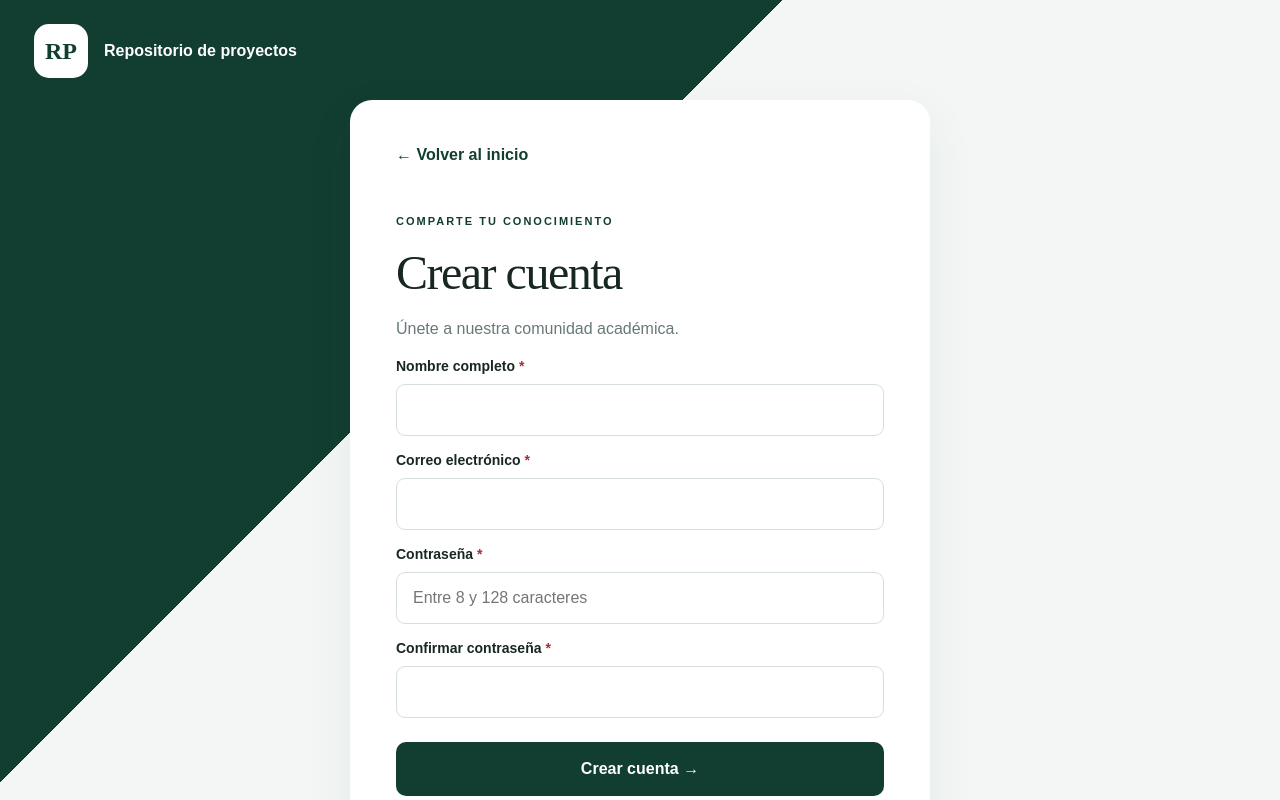
Scenario: Migración de pantallas y permisos › valida que las contraseñas de registro coincidan
This screenshot has width=1280, height=800.
Type "Davis" into the field labelled "Nombre completo *". click: (640, 410)
box: [396,384,884,436]
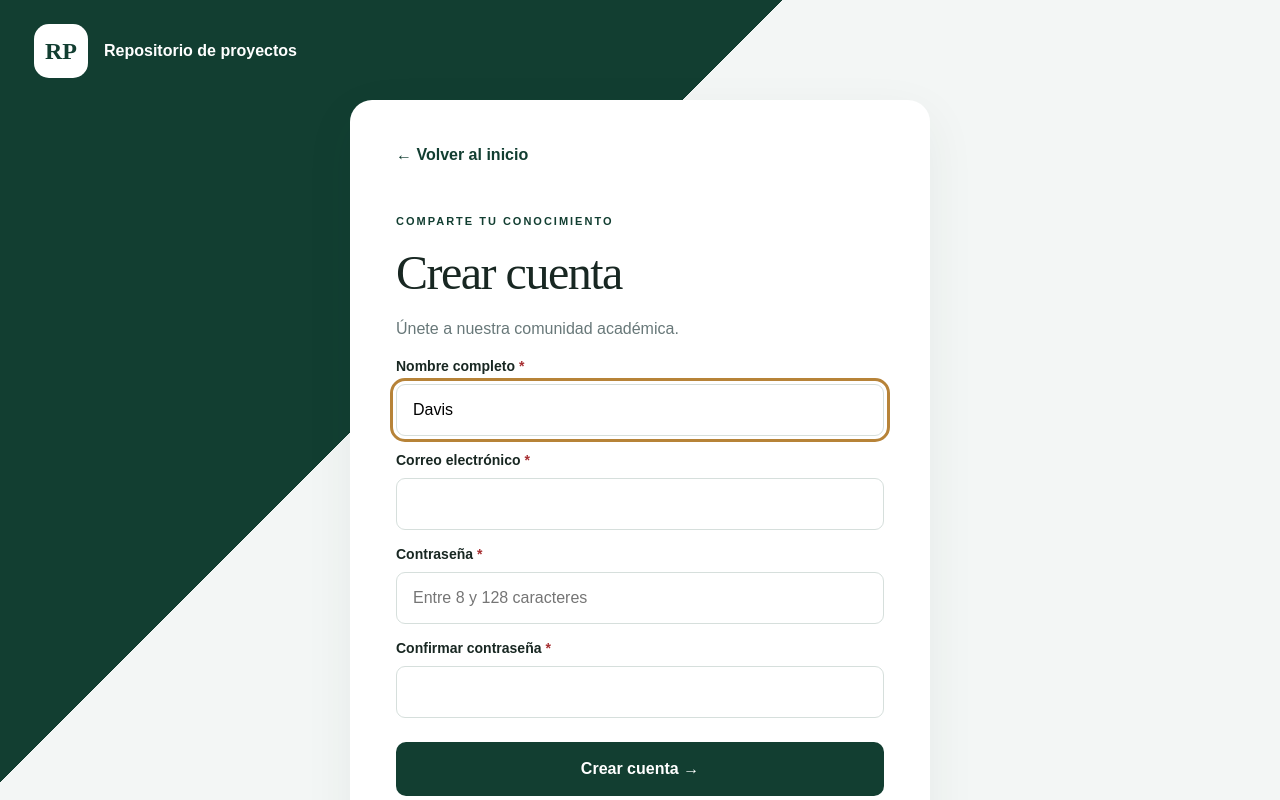
Type "davis@example.com" into the field labelled "Correo electrónico *". click: (640, 504)
box: [396,478,884,530]
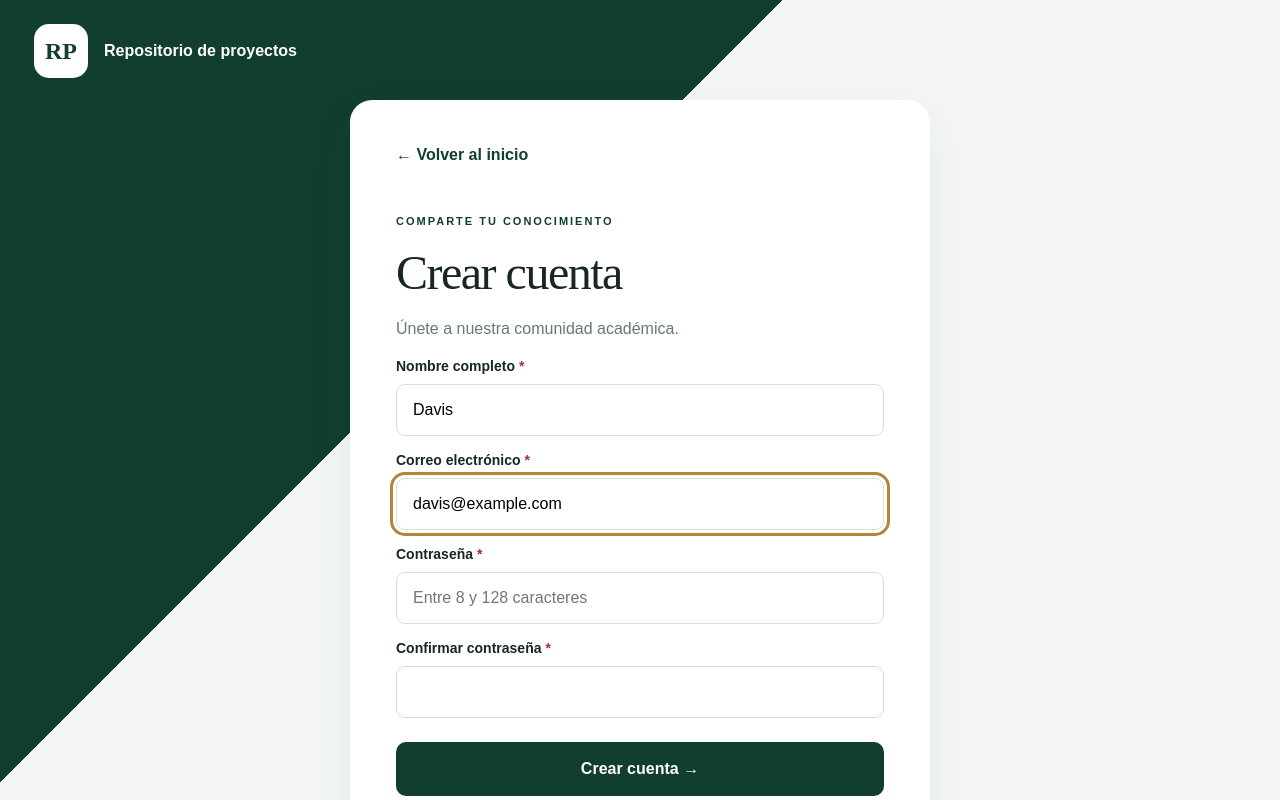
Type "Segura-123" into the password field labelled "Contraseña *". click: (640, 598)
box: [396,572,884,624]
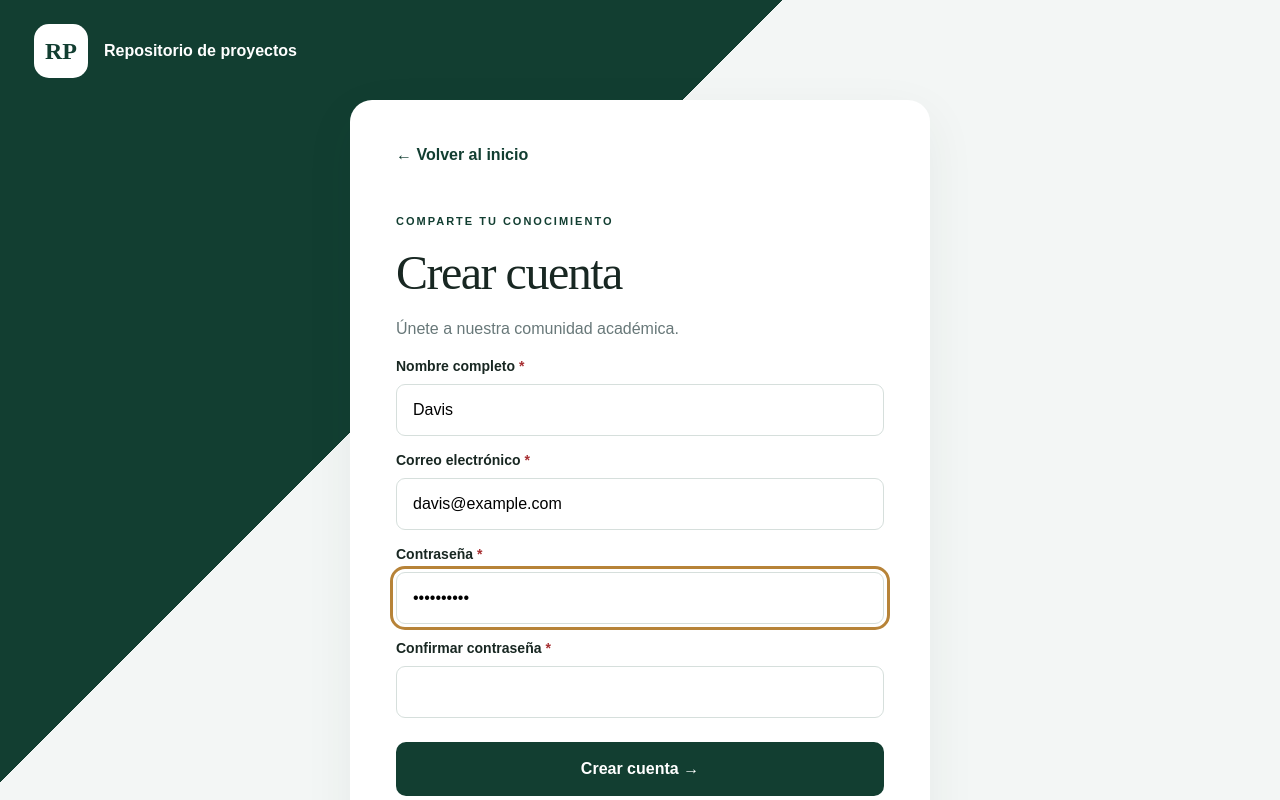
Type "Diferente-123" into the password field labelled "Confirmar contraseña *". click: (640, 692)
box: [396,666,884,718]
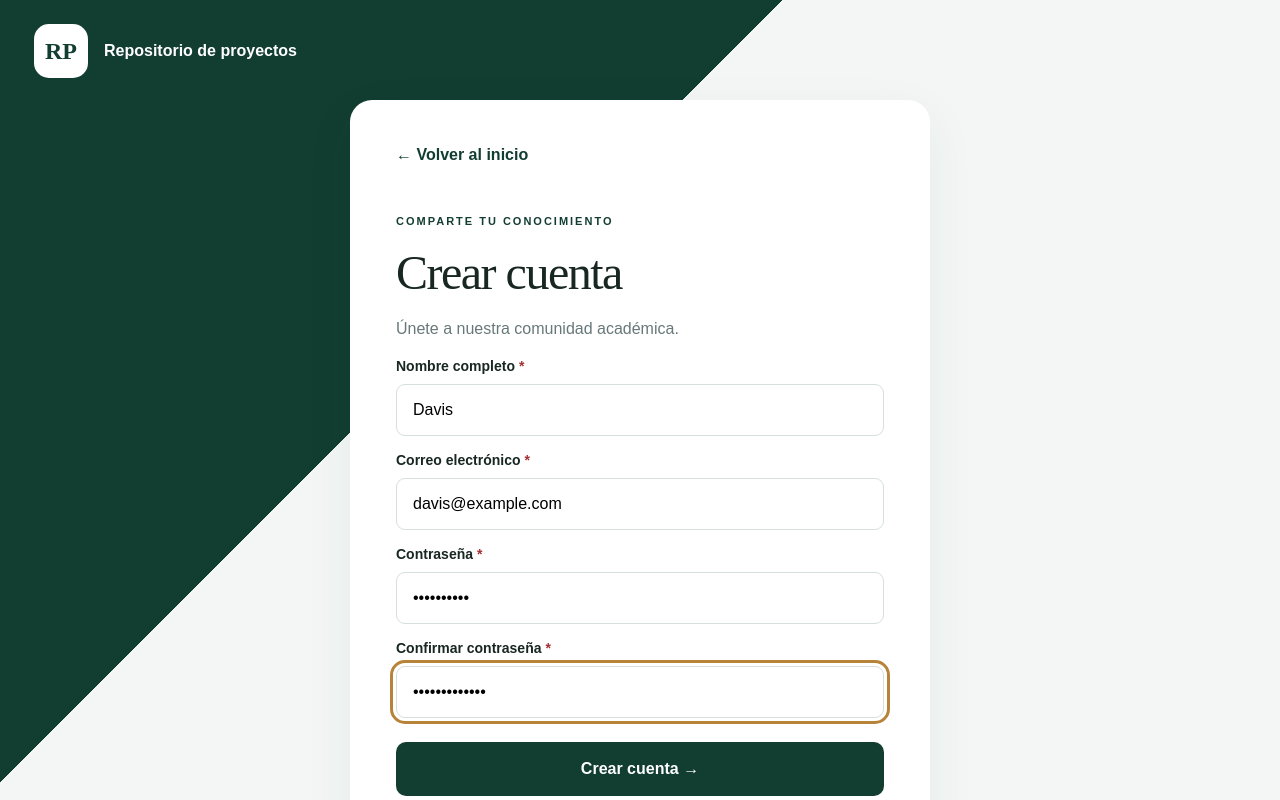
Click the button "Crear cuenta →". click: click(640, 769)
box: [396,742,884,796]
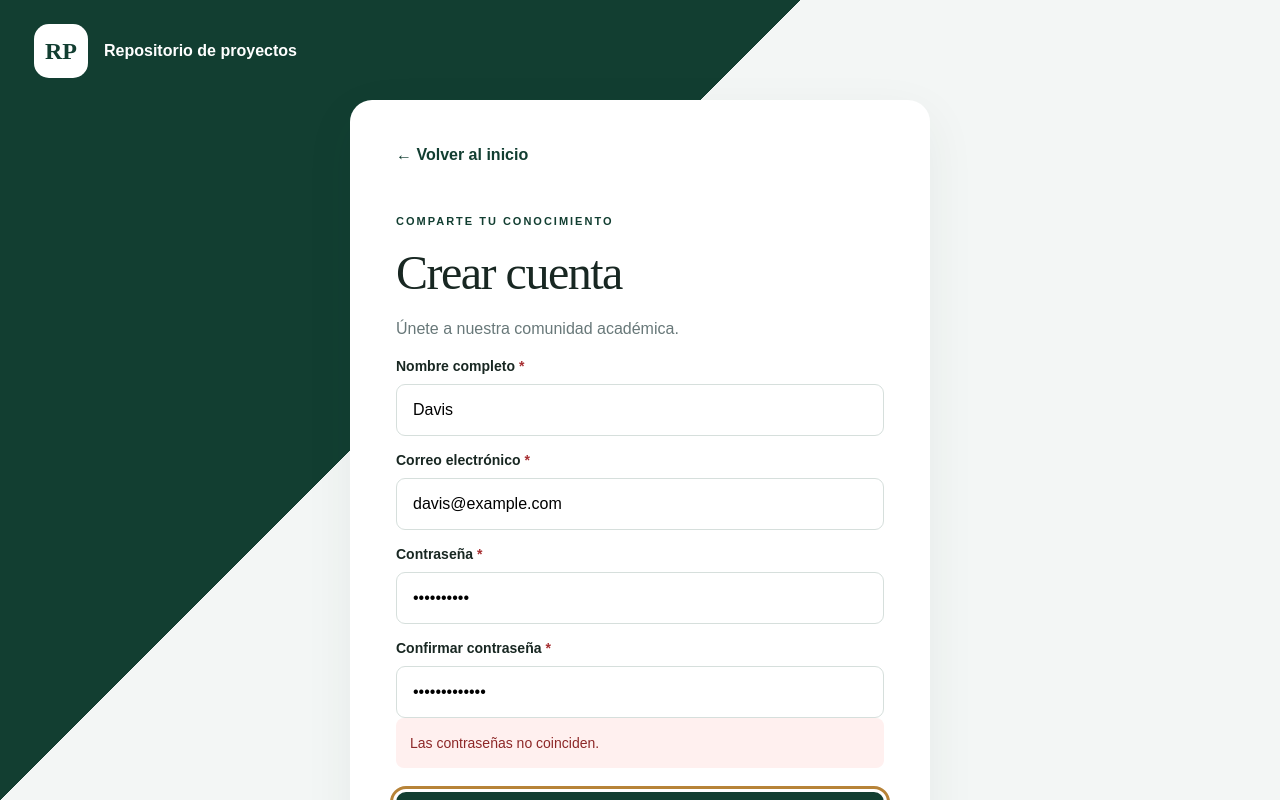
Expected: the text "Las contraseñas no coinciden." is shown, [396,718,884,768]
